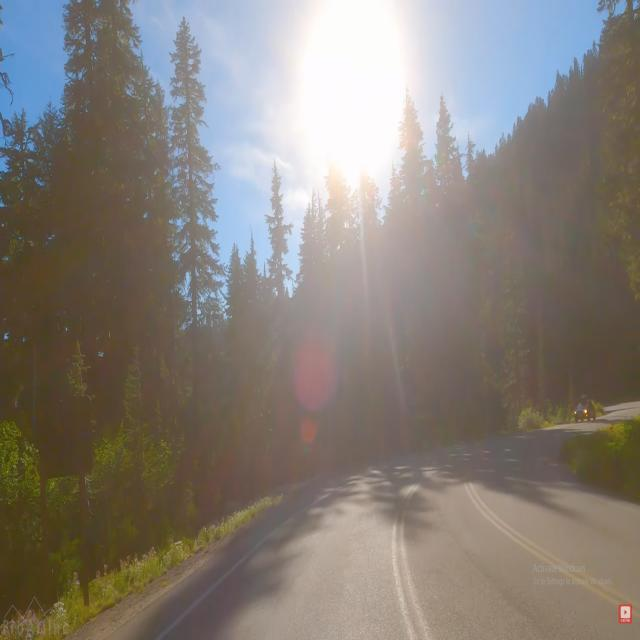sun: (271, 0, 427, 184)
